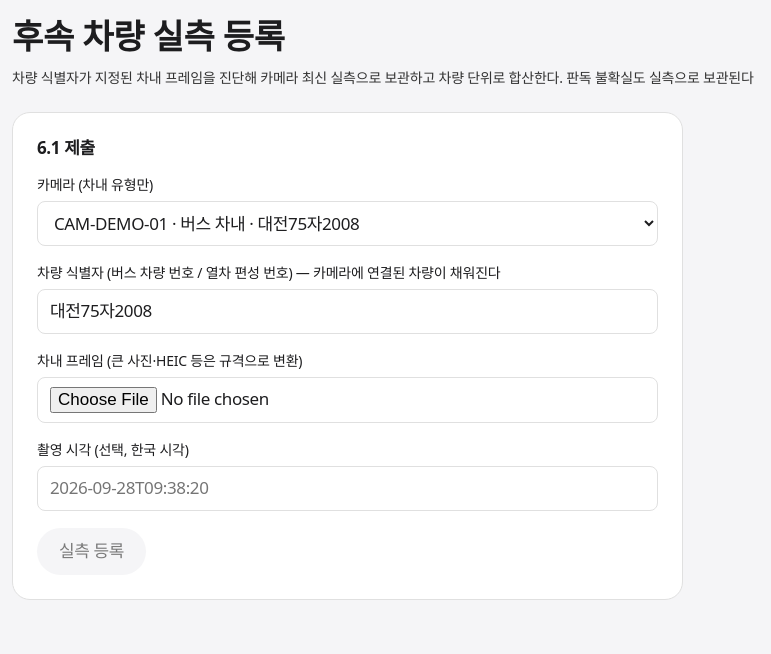
Scenario: 실측 등록 — 차량 번호 자동 채움 › 주소의 camera_id 로 열면 그 카메라의 차량, 카메라를 바꾸면 그 차량, 연결 없으면 안내
Expected: the field labelled "차량 식별자 (버스 차량 번호 / 열차 편성 번호) — 카메라에 연결된 차량이 채워진다" holds "대전75자2008", top-left (37, 289), bottom-right (658, 334)
Select "CAM-DEMO-02 · 버스 차내 · 대전75자9018" in the dropdown: {"x": 348, "y": 224} top-left (37, 201), bottom-right (658, 246)
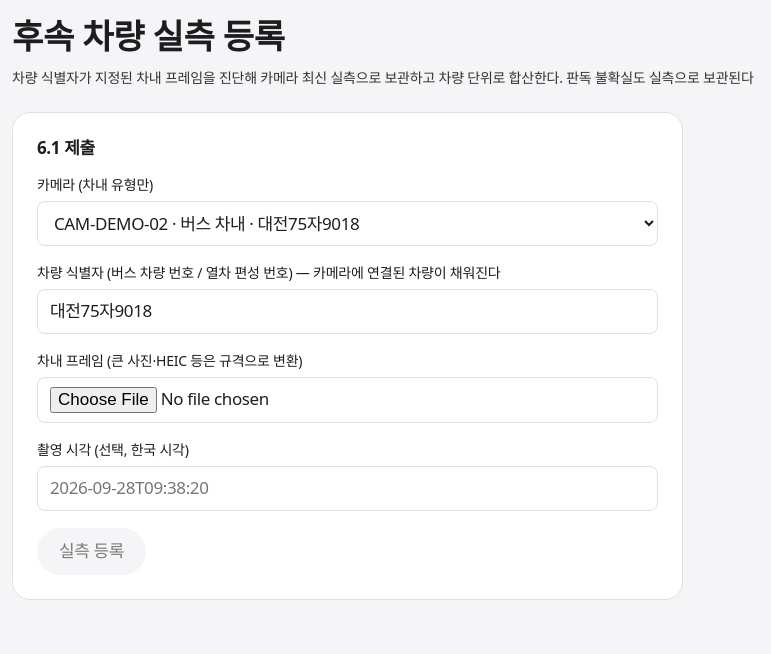
Result: the field labelled "차량 식별자 (버스 차량 번호 / 열차 편성 번호) — 카메라에 연결된 차량이 채워진다" holds "대전75자9018" at top-left (37, 289), bottom-right (658, 334)
Select "CAM-X · 버스 차내 · 매핑 없음" in the dropdown: {"x": 348, "y": 224} top-left (37, 201), bottom-right (658, 246)
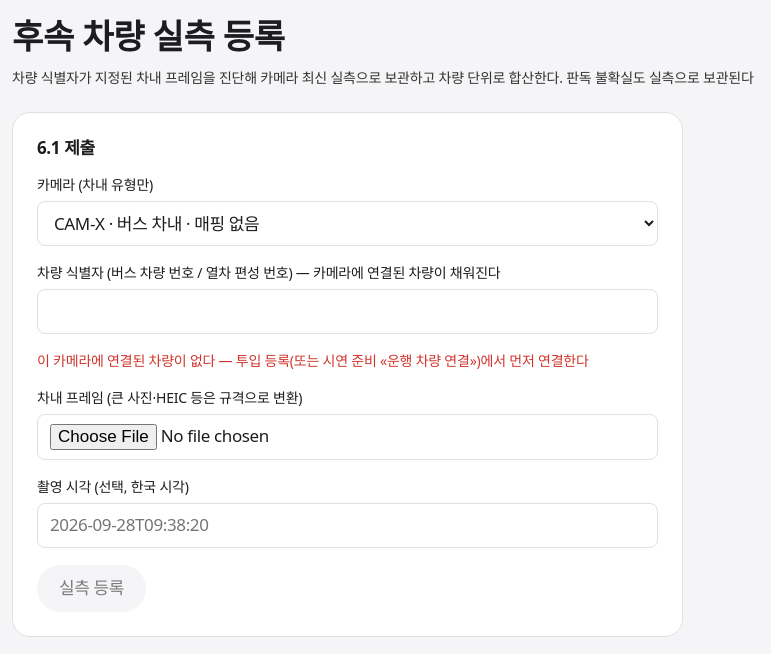
Result: the field labelled "차량 식별자 (버스 차량 번호 / 열차 편성 번호) — 카메라에 연결된 차량이 채워진다" is empty at top-left (37, 289), bottom-right (658, 334)
Result: the text "이 카메라에 연결된 차량이 없다 — 투입 등록(또는 시연 준비 «운행 차량 연결»)에서 먼저 연결한다" is shown at top-left (37, 351), bottom-right (658, 371)
